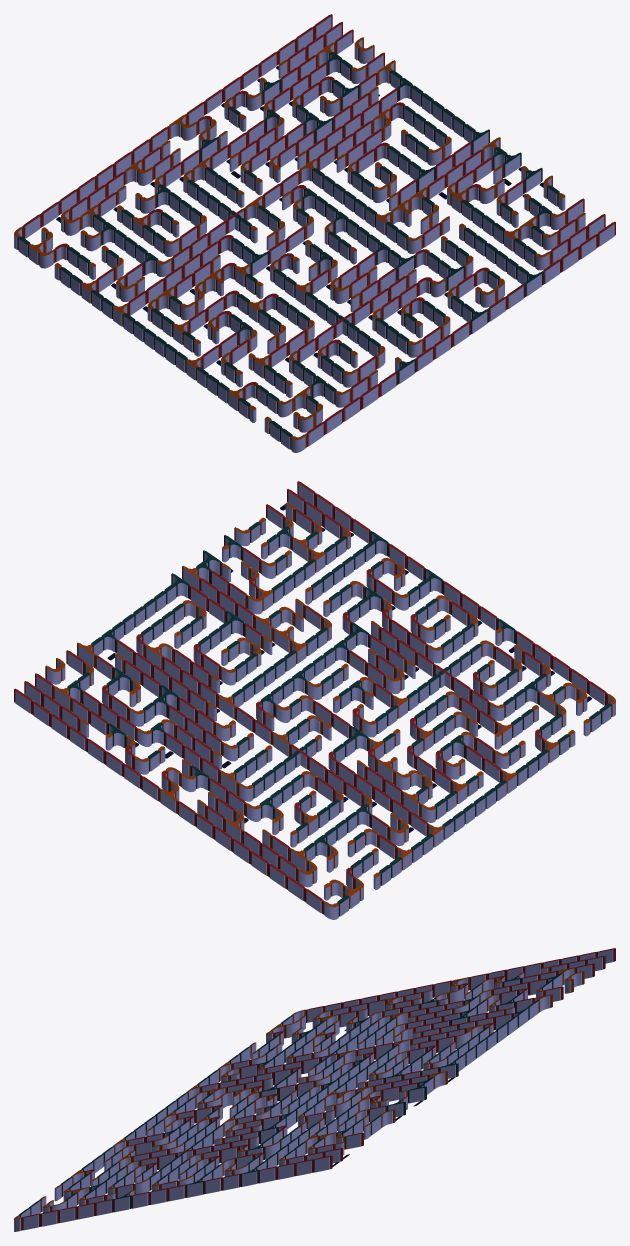
The model's file is W_M_maze_InWall_Side_A_L3.fbx.
3 renders of one model, top to bottom at view 1: azimuth 30°, elevation 25°; view 2: azimuth 150°, elevation 25°; view 3: azimuth 330°, elevation 25°, orthographic.
Parts seen in each view (by area): view 1: W_M_maze_InWall_Side_A_L3; view 2: W_M_maze_InWall_Side_A_L3; view 3: W_M_maze_InWall_Side_A_L3.
Part boxes in pixels (left/top/right/bottom): W_M_maze_InWall_Side_A_L3: left=14, top=14, right=615, bottom=452; W_M_maze_InWall_Side_A_L3: left=14, top=481, right=615, bottom=919; W_M_maze_InWall_Side_A_L3: left=14, top=948, right=615, bottom=1231.
Size of the model in its own units: 26.4 by 12.17 by 40.77.
